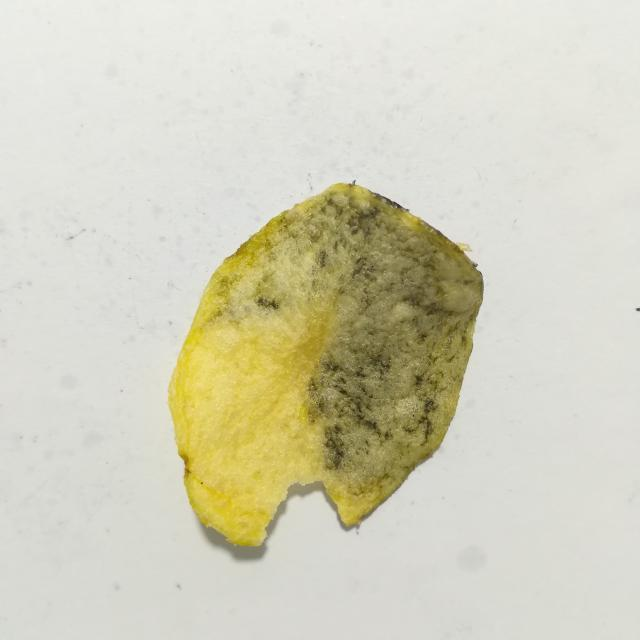chip: (168, 183, 483, 545)
semi-damaged: (213, 185, 483, 503)
